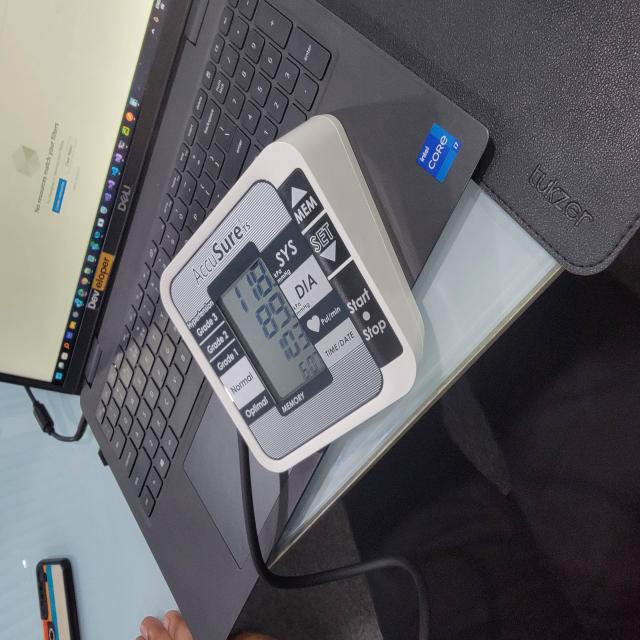bp: (157, 118, 427, 479)
